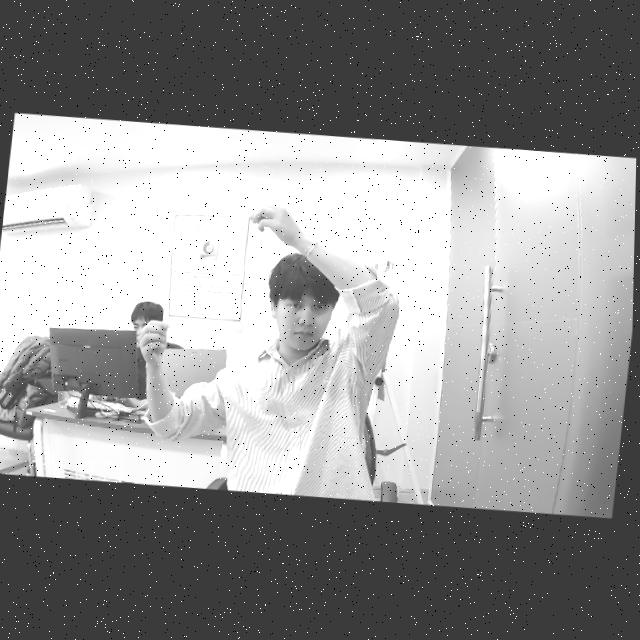document: (162, 210, 254, 333)
face: (273, 283, 332, 354)
